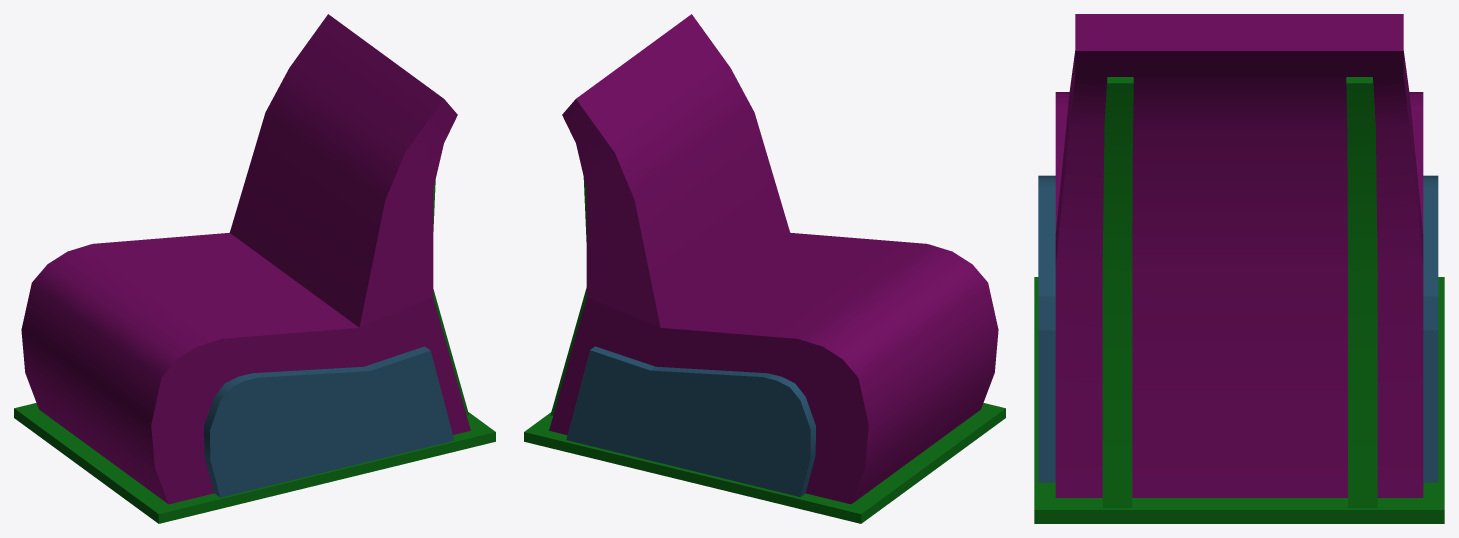
Rendered from SM_Fauteuil.fbx.
3 views of the same model, side by side, from view 1: azimuth 30°, elevation 25°; view 2: azimuth 150°, elevation 25°; view 3: azimuth 270°, elevation 25° (orthographic). The views are drawn at different scales.
Visible parts, largest first — view 1: pCube12; view 2: pCube12; view 3: pCube12.
Part boxes in pixels (x1=…): pCube12: x1=14, y1=14, x2=495, y2=523; pCube12: x1=524, y1=14, x2=1005, y2=523; pCube12: x1=1034, y1=14, x2=1444, y2=523.
Size of the model in its own units: 5.87 by 5.68 by 4.36.
